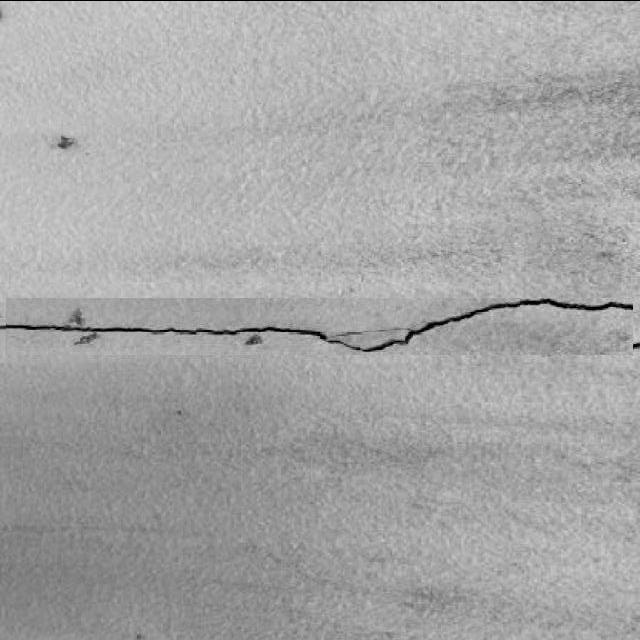Crack: (0, 295, 639, 353)
